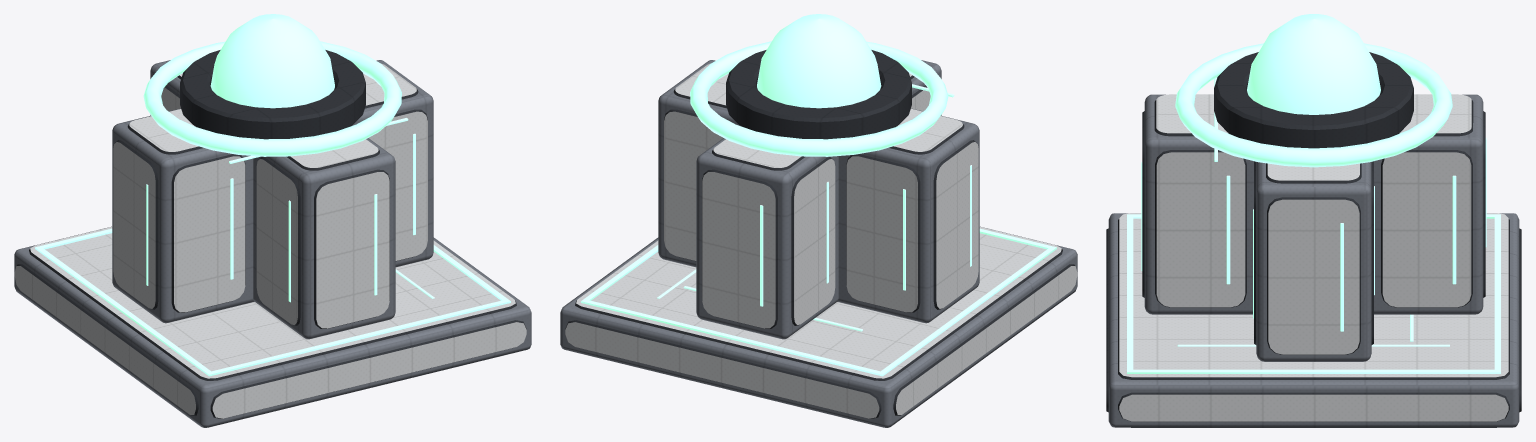
Rendered from R4X_RepairPulse.glb.
3 renders of one model, left to right at view 1: azimuth 30°, elevation 25°; view 2: azimuth 150°, elevation 25°; view 3: azimuth 270°, elevation 25°, orthographic. The views are drawn at different scales.
Visible parts, largest first — view 1: R4X_RepairPulse_Body; view 2: R4X_RepairPulse_Body; view 3: R4X_RepairPulse_Body.
Boxes of the visible parts, x1,y1,x2,y2 form: R4X_RepairPulse_Body: (14,14,531,427); R4X_RepairPulse_Body: (560,14,1077,427); R4X_RepairPulse_Body: (1106,14,1521,427).
Bounding box in the file's own units: 0.52 × 0.4512 × 0.52.
4 materials, 3 textured.
